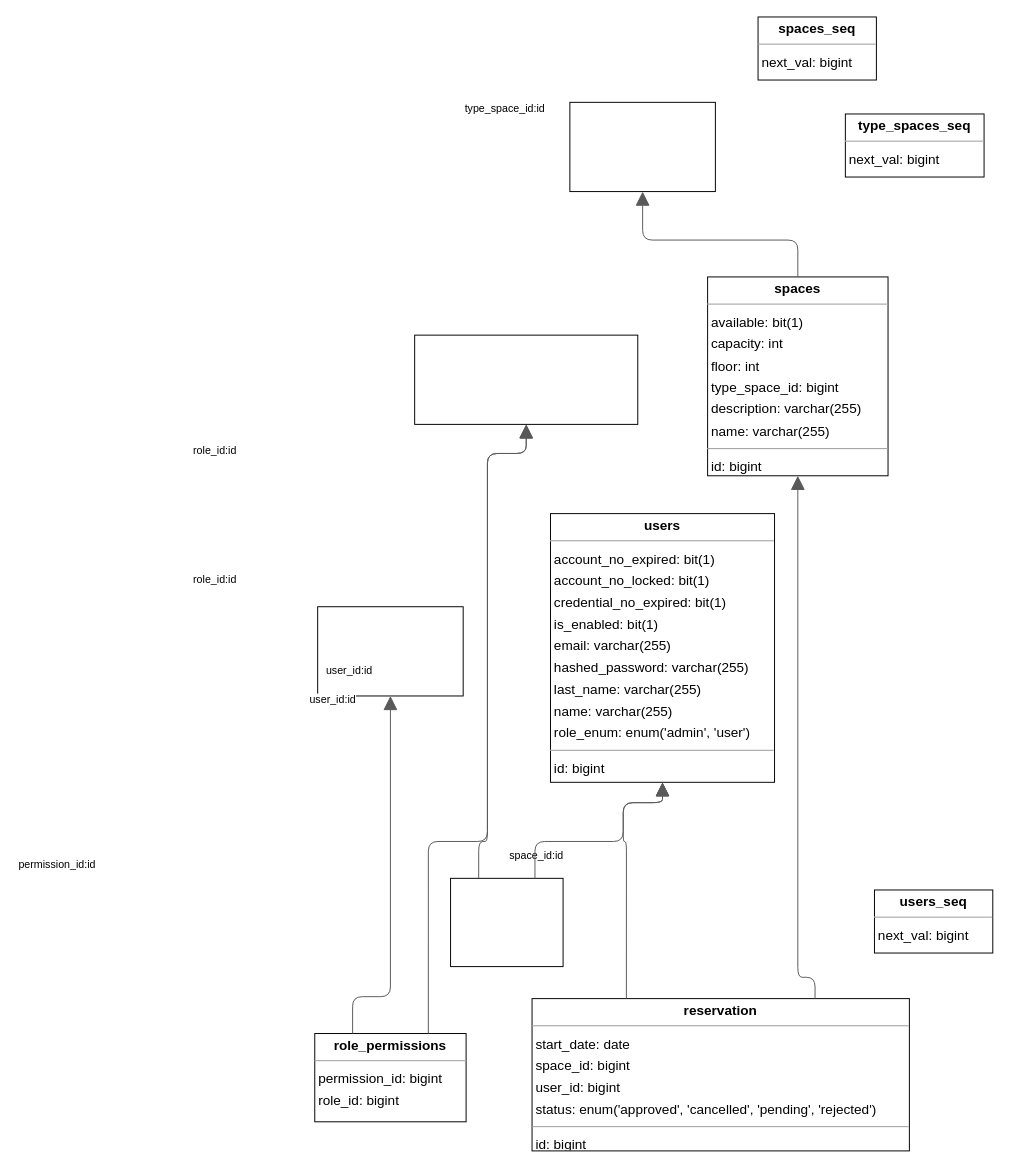
Some shapes in this 1010 by 1169 pixel diagram are drawn without their labels. Each missing label, with the centre of its shape:
"permissions name: varchar(255) id: bigint" goes at (390,651).
"role_entity role_name: enum('admin', 'user') id: bigint" goes at (526,379).
"type_spaces name: varchar(255) id: bigint" goes at (642,146).
"user_roles role_id: bigint user_id: bigint" goes at (506,922).
